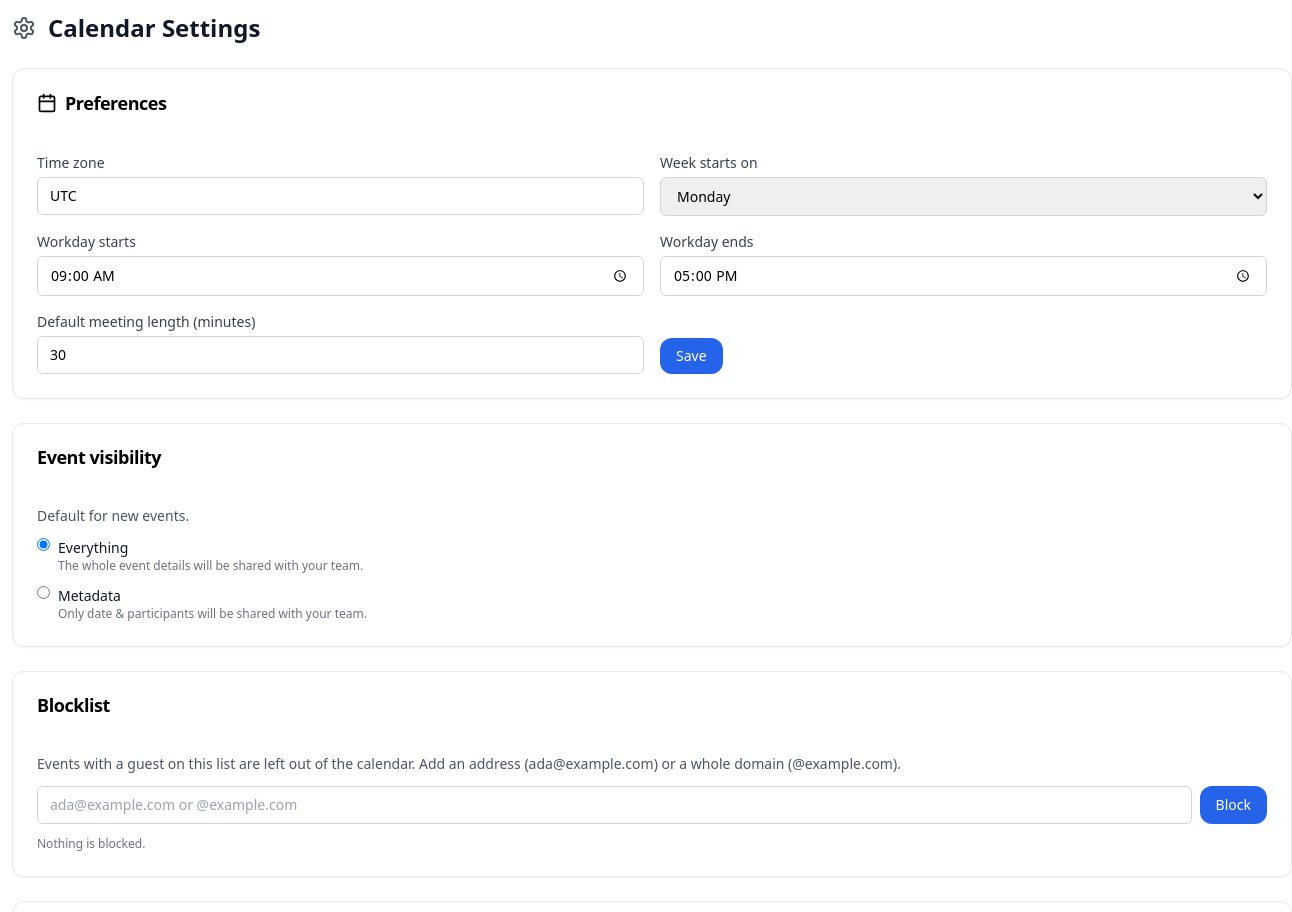
it: CalendarSettings: blocklist › shows an empty state and an error when adding fails
Expected: the text "Nothing is blocked." is shown, 37,835 -> 145,852
In the field named "Address or domain to block": (614, 805) 37,786 -> 1192,824, type "a@b.io"
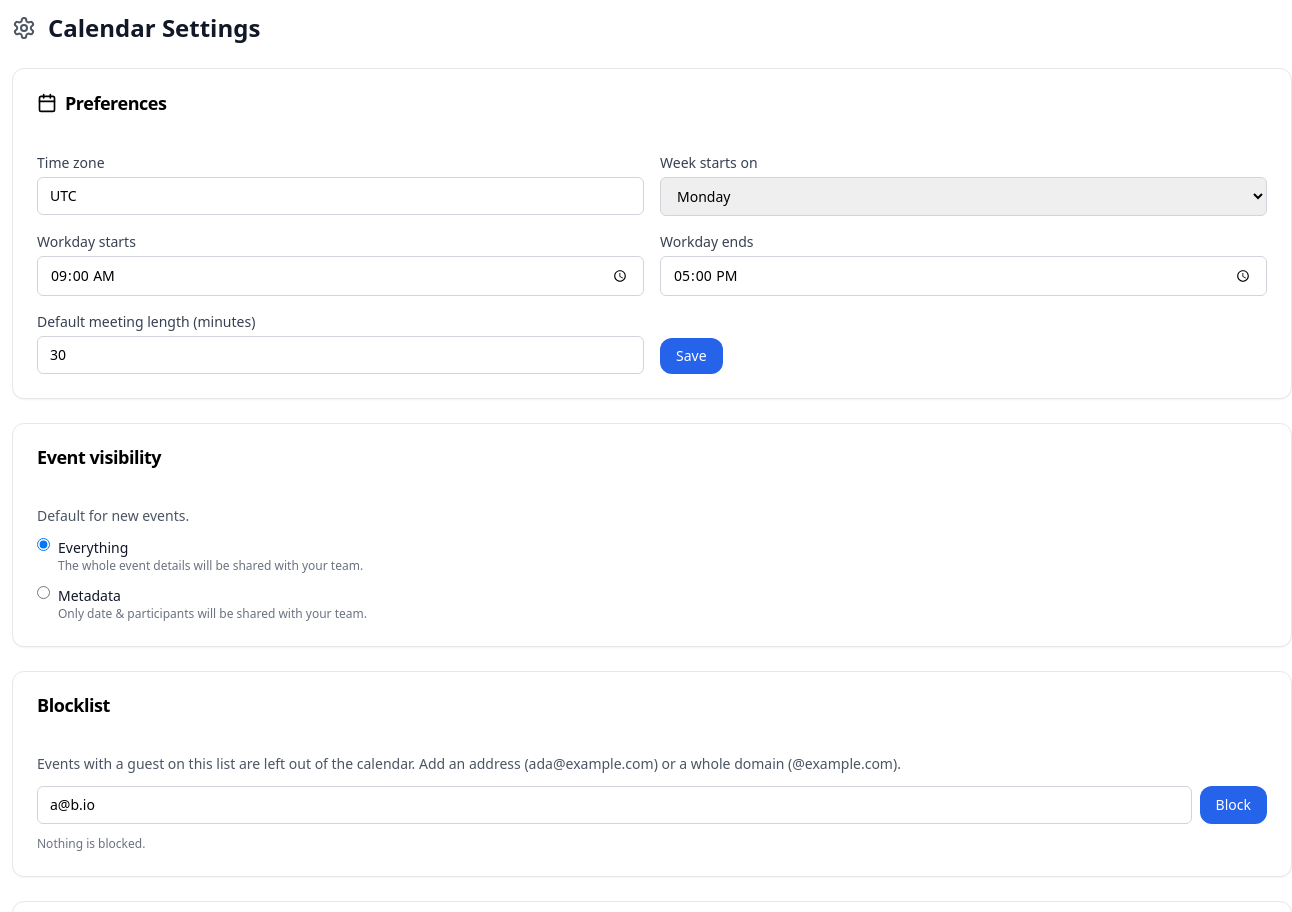
Click the button "Block": (1233, 805) 1200,786 -> 1267,824
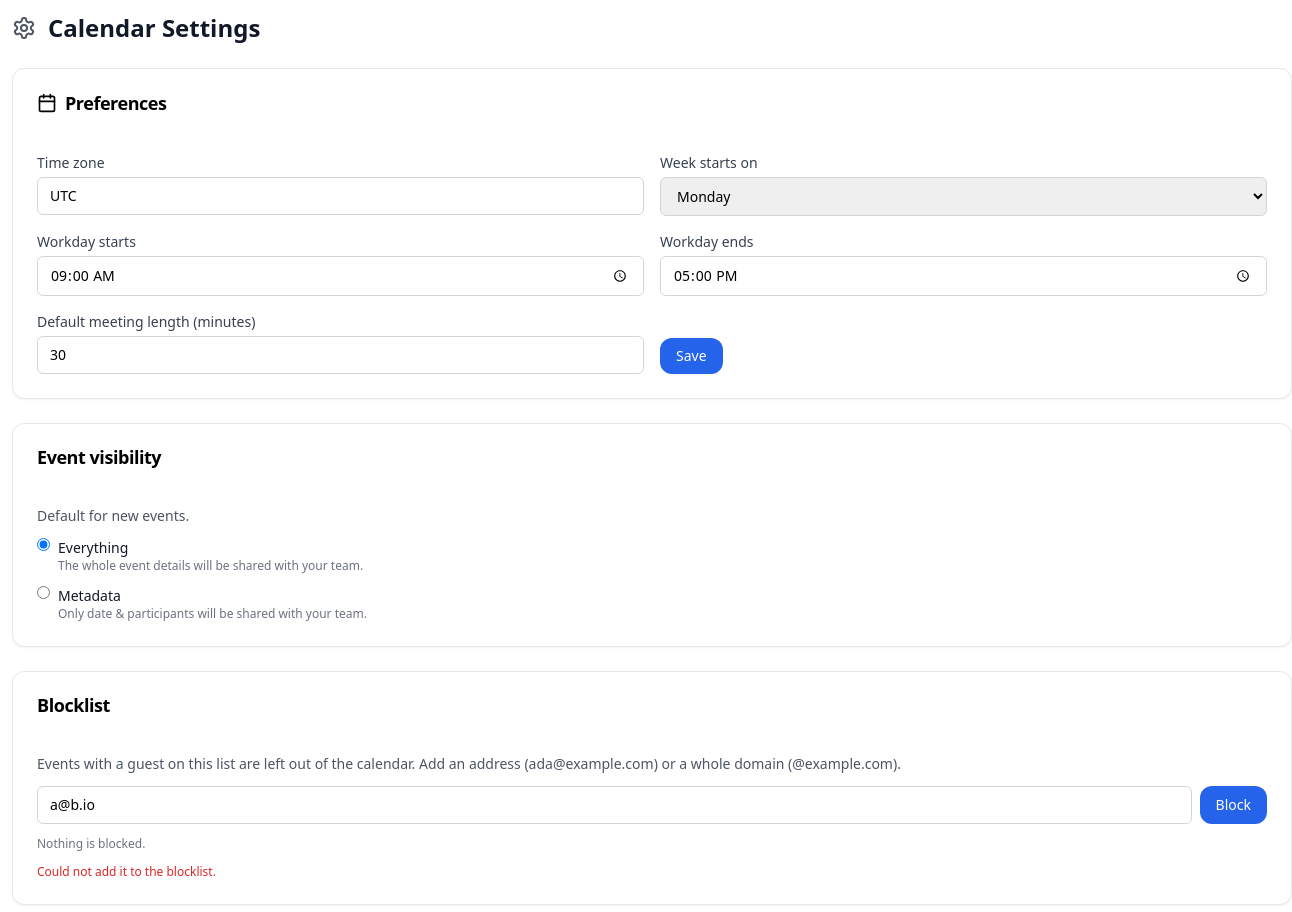
Result: the text "Could not add it to the blocklist." is shown at 37,863 -> 216,880
